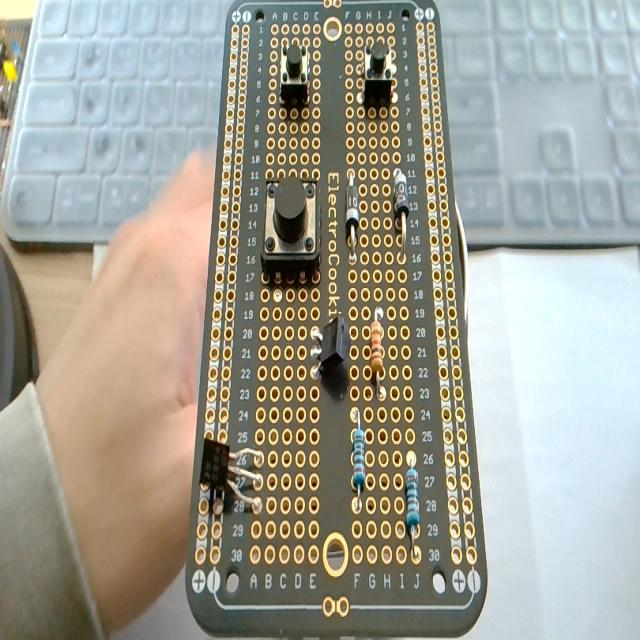diode: (383, 155, 413, 262), (344, 154, 360, 261)
resistor: (348, 404, 372, 512), (367, 301, 389, 410), (401, 447, 424, 549)
switch: (262, 163, 324, 273), (359, 30, 399, 105), (276, 36, 312, 102)
transistor: (196, 428, 264, 522), (304, 316, 352, 385)
